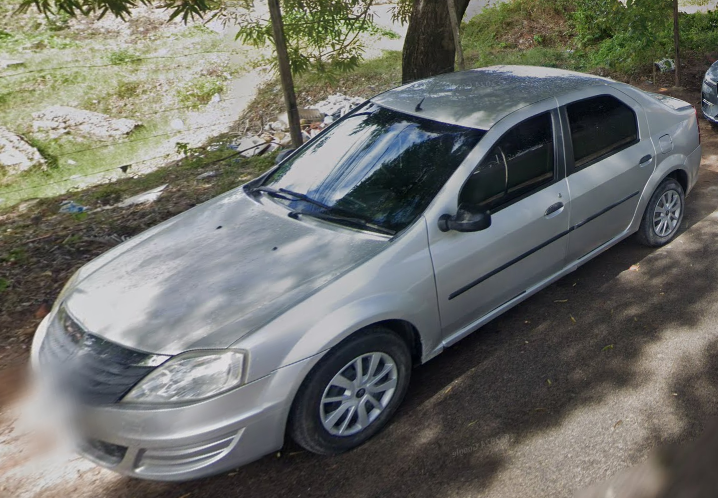car: (31, 63, 702, 478)
